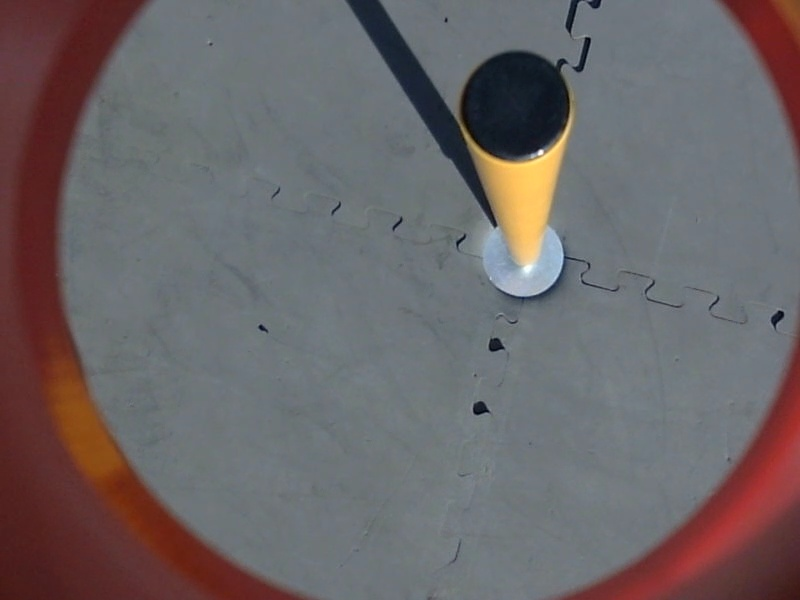tip: (453, 45, 581, 164)
